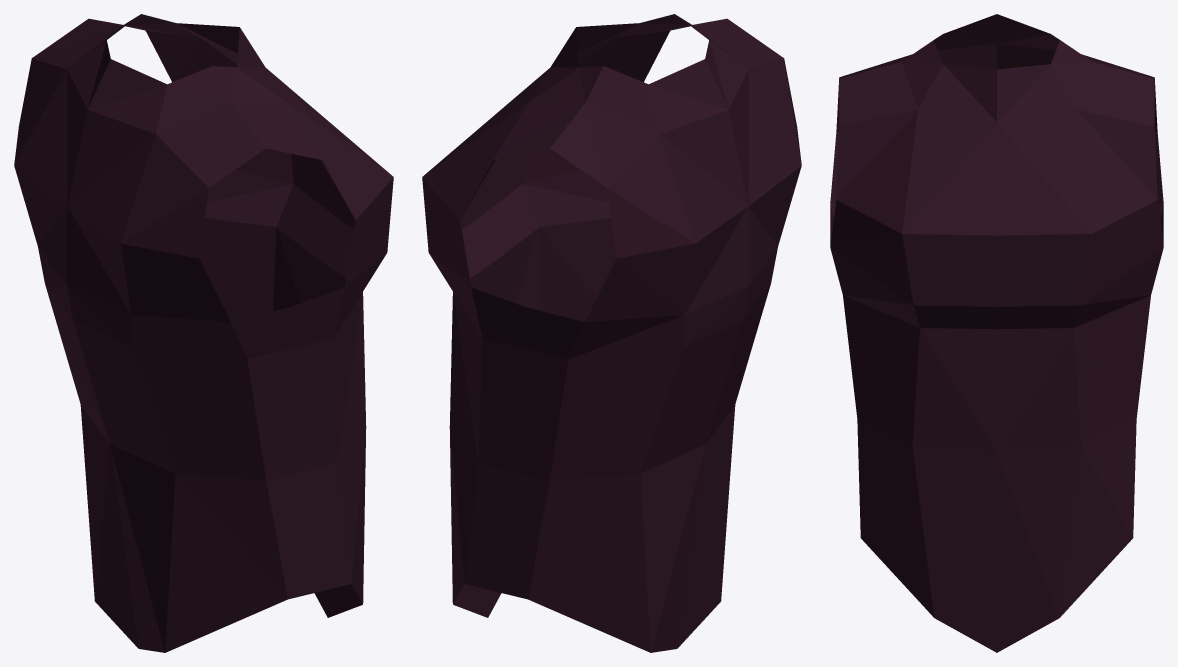
File: body.fbx
3 renders of one model, left to right at view 1: azimuth 30°, elevation 25°; view 2: azimuth 150°, elevation 25°; view 3: azimuth 270°, elevation 25°, orthographic. The views are drawn at different scales.
Parts seen in each view (by area): view 1: Body; view 2: Body; view 3: Body.
Boxes of the visible parts, x1,y1,x2,y2 form: Body: [14, 14, 393, 652]; Body: [422, 14, 801, 652]; Body: [830, 14, 1163, 652].
Size of the model in its own units: 31.05 by 66.83 by 36.92.
